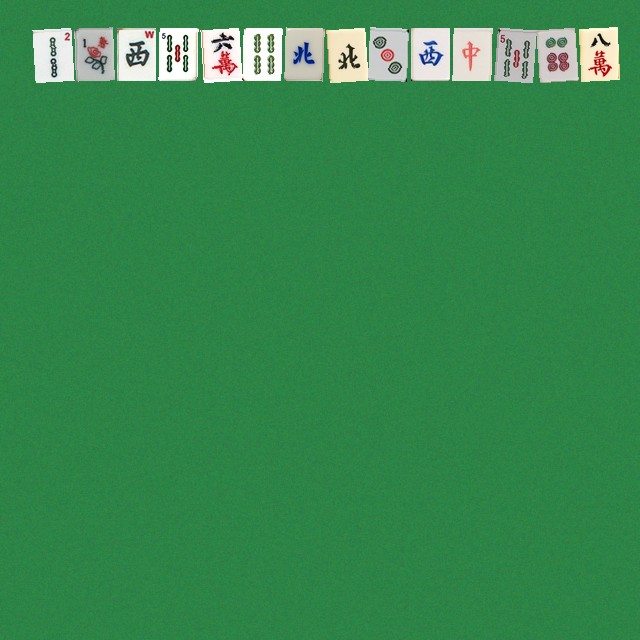tile: (32, 27, 71, 80), (74, 27, 113, 80), (116, 27, 155, 80), (158, 27, 197, 80), (200, 27, 239, 80), (242, 27, 281, 80), (284, 27, 323, 80), (326, 27, 365, 80), (368, 27, 407, 80), (410, 27, 449, 80), (452, 27, 491, 80), (494, 27, 533, 80), (536, 27, 575, 80), (578, 27, 617, 80)
